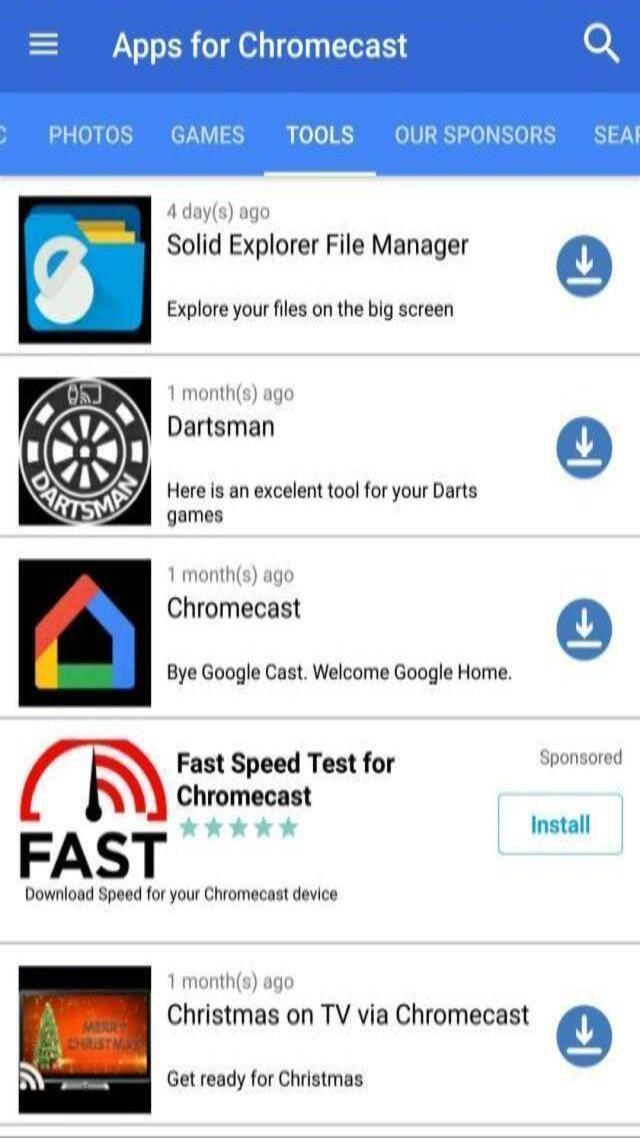Icon: (12, 740, 166, 914), (17, 195, 152, 346), (16, 966, 152, 1114), (17, 559, 152, 708), (20, 376, 153, 526), (556, 594, 614, 664), (557, 419, 614, 488), (553, 1001, 610, 1070), (557, 234, 614, 300), (578, 21, 628, 72), (19, 25, 67, 66)
Text: (163, 654, 516, 693), (164, 998, 539, 1034), (160, 230, 474, 269), (160, 292, 462, 326), (163, 476, 486, 502), (168, 748, 398, 781), (160, 1066, 365, 1096), (172, 782, 320, 810), (164, 378, 299, 408), (163, 595, 306, 623), (164, 562, 304, 590), (164, 411, 282, 444), (159, 196, 277, 226), (163, 968, 298, 994), (532, 746, 626, 772), (163, 506, 229, 532)
TextButton: (106, 28, 415, 70), (498, 791, 624, 856), (498, 795, 622, 852), (386, 113, 562, 152), (160, 114, 252, 154), (42, 118, 140, 153), (274, 113, 359, 149)
